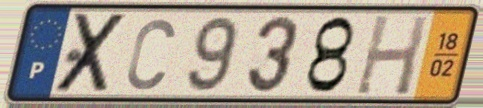3: (242, 13, 300, 95)
8: (304, 14, 358, 95)
9: (183, 14, 242, 94)
C: (123, 15, 178, 93)
H: (351, 12, 432, 98)
X: (50, 10, 133, 96)
